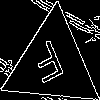F: (27, 38, 71, 93)
